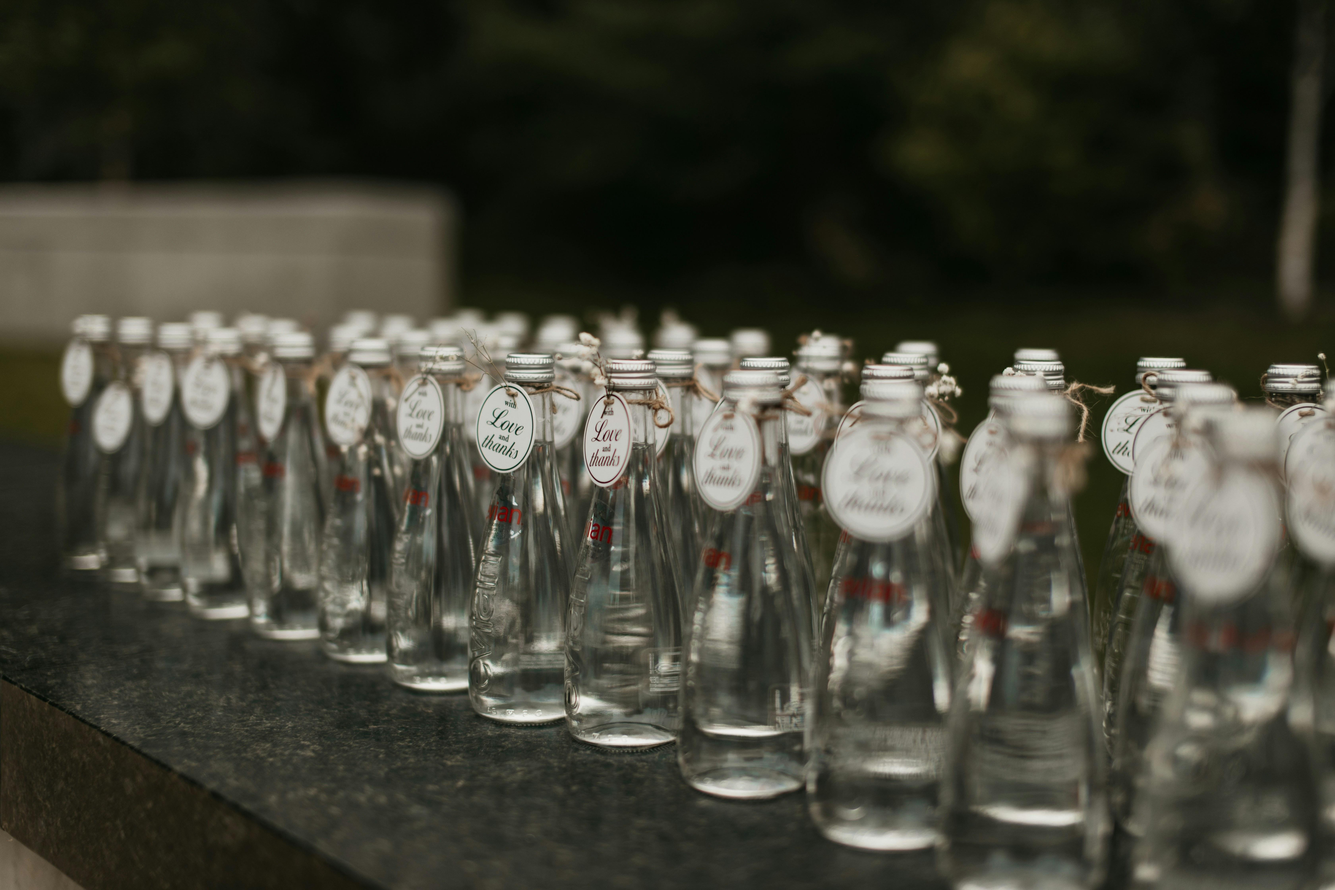Bottle-Detection: (1126, 340, 1317, 890), (950, 350, 1140, 890), (824, 348, 989, 872), (685, 340, 820, 815), (348, 330, 499, 707), (572, 340, 693, 757), (471, 348, 598, 727), (236, 332, 350, 644), (34, 298, 117, 574)
botle: (111, 320, 203, 610)
